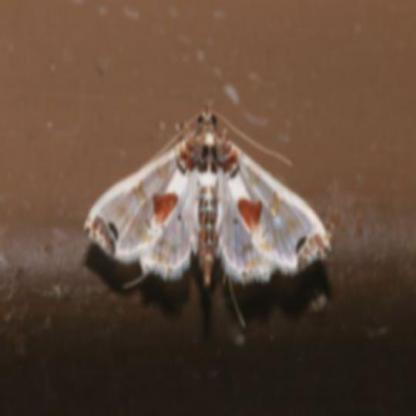leucinodes: (81, 114, 329, 288)
